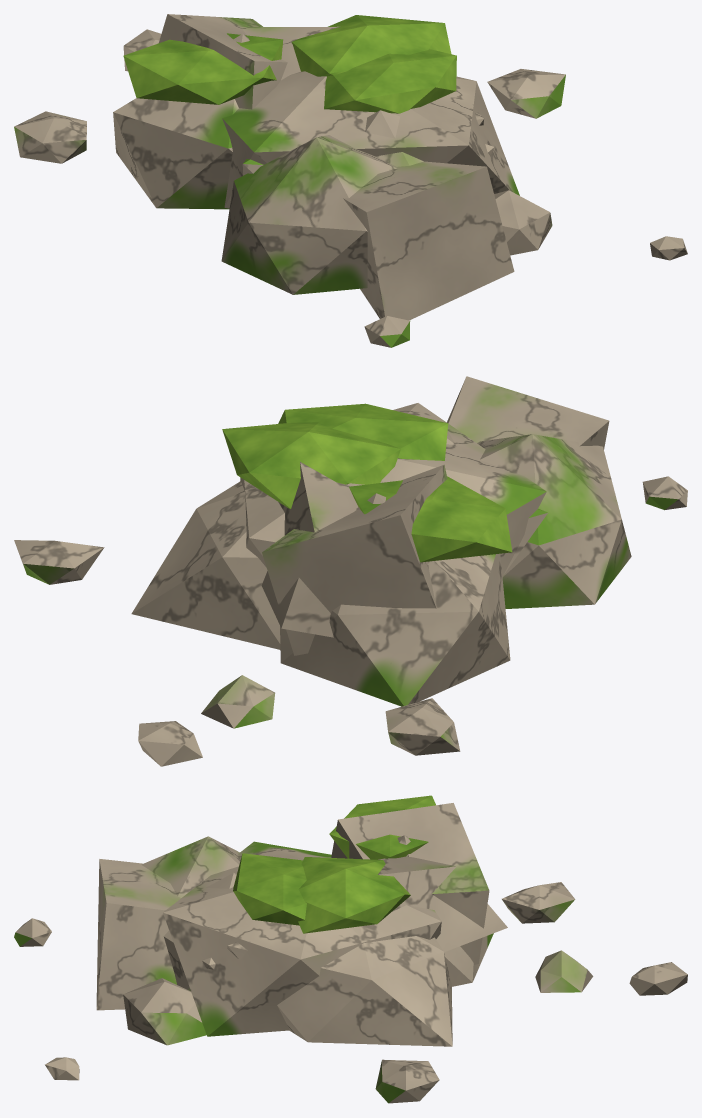
Rendered from rubble_pile.glb.
The picture shows the model from 3 angles, top to bottom: view 1: azimuth 30°, elevation 25°; view 2: azimuth 150°, elevation 25°; view 3: azimuth 270°, elevation 25°; orthographic projection. The views are drawn at different scales.
Visible parts, largest first — view 1: rubble_pile; view 2: rubble_pile; view 3: rubble_pile.
Part boxes in pixels (bbox=[...]): rubble_pile: bbox=[14, 14, 687, 347]; rubble_pile: bbox=[14, 376, 687, 766]; rubble_pile: bbox=[14, 795, 687, 1103].
Size of the model in its own units: 2.58 by 0.9486 by 3.47.
2 materials, 2 textured.
